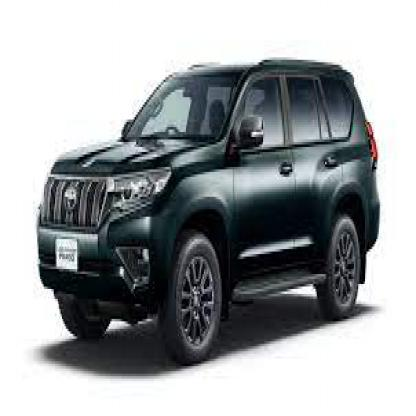jeep: (24, 42, 380, 369)
